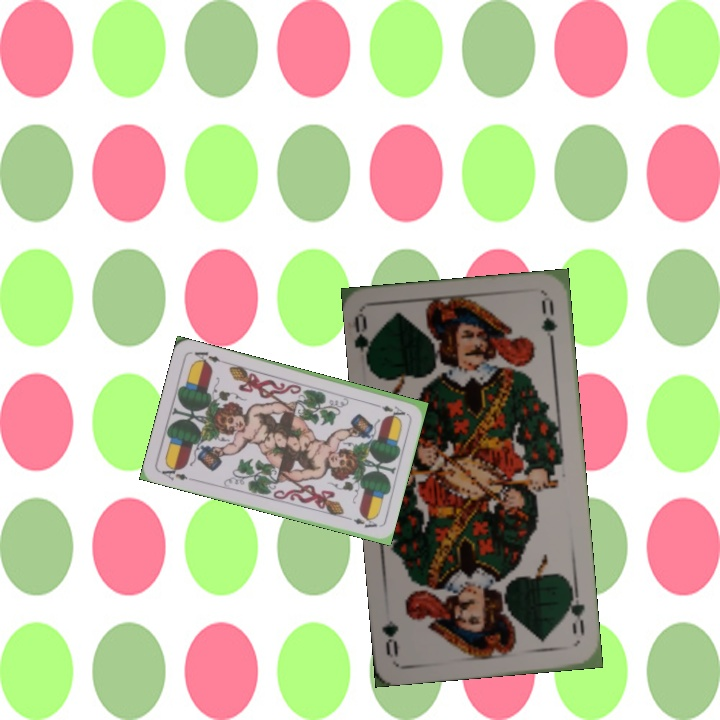EA: (156, 461, 196, 483), (369, 399, 408, 418)
GO: (350, 311, 379, 370), (562, 584, 587, 638)
